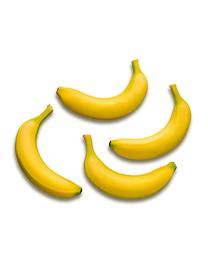banana: (108, 81, 191, 160), (14, 103, 82, 199), (81, 135, 178, 202), (55, 55, 149, 121)
